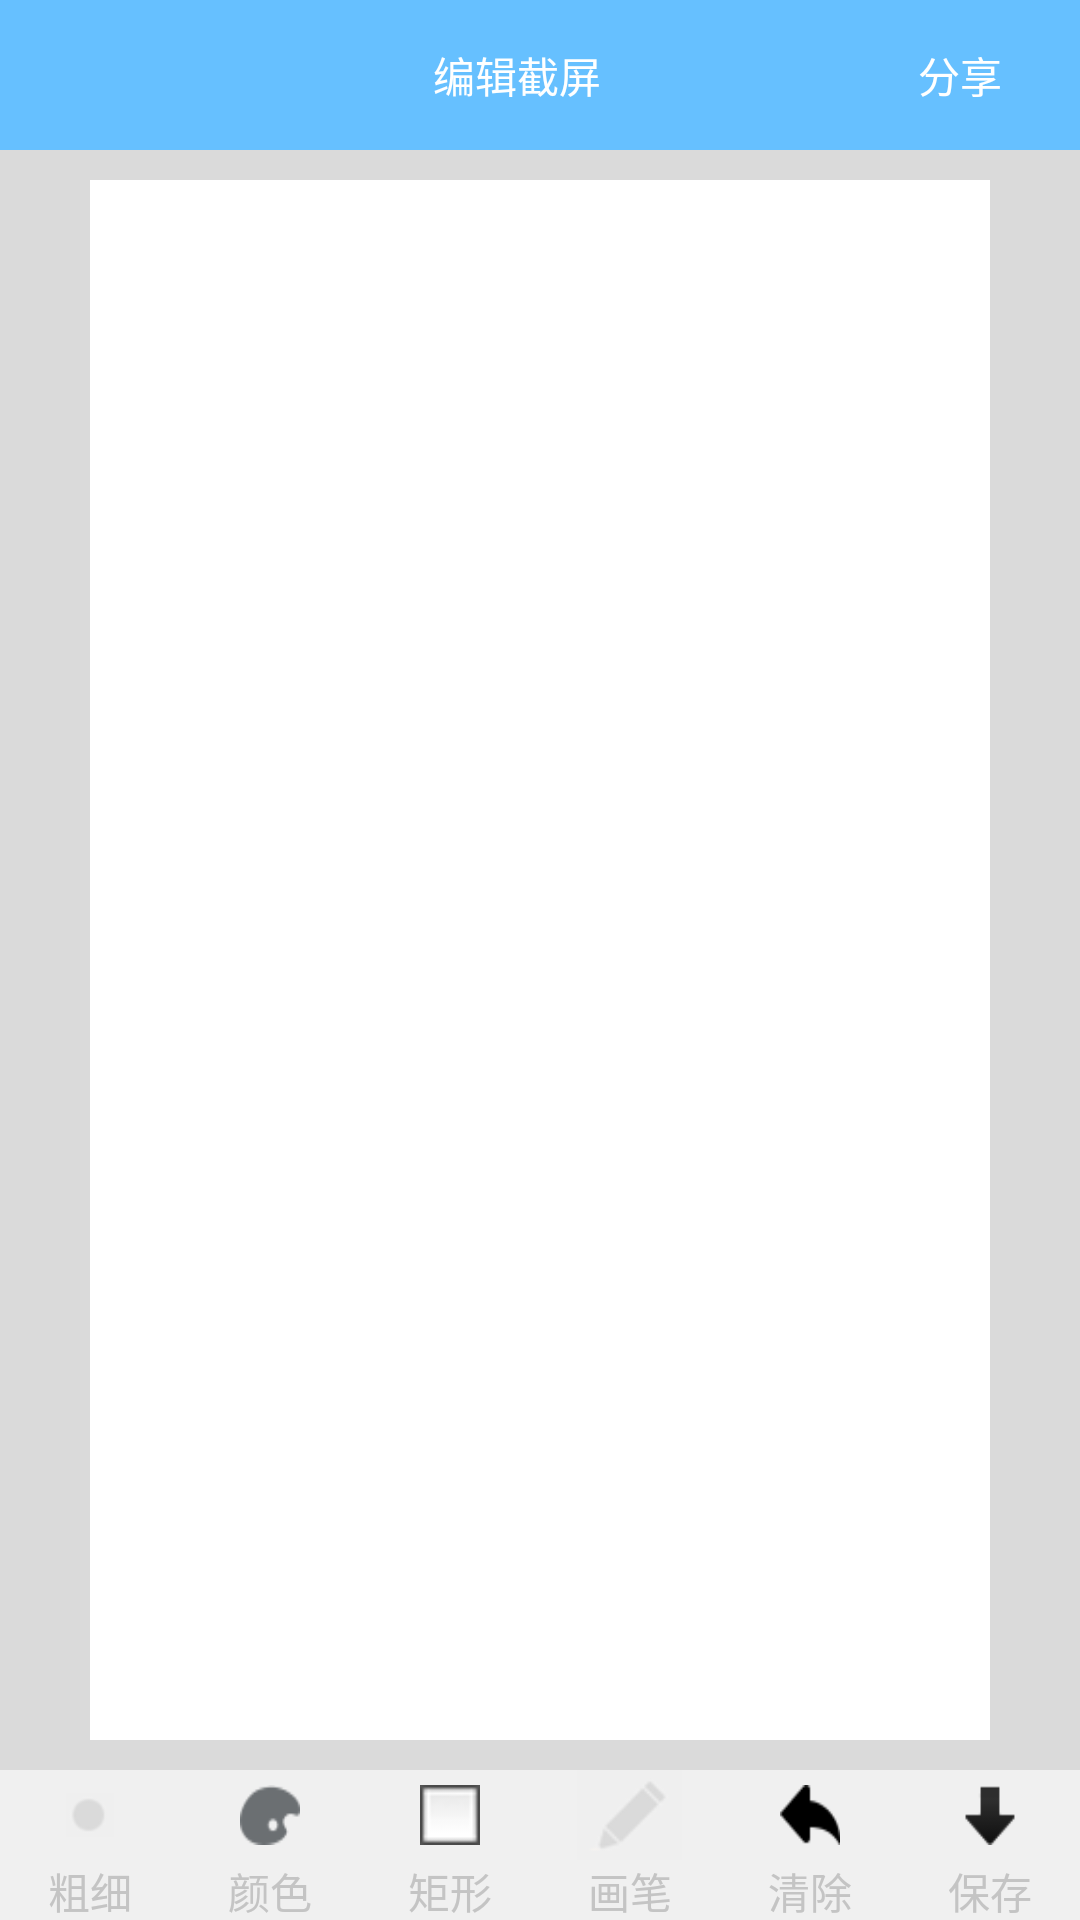

Icon click points for this 1080×1920 phone screenshot, format (x=x, y=y):
yt screencap cancel: (x=810, y=1815)
